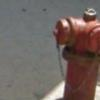a fire hydrant: (55, 9, 100, 100)
